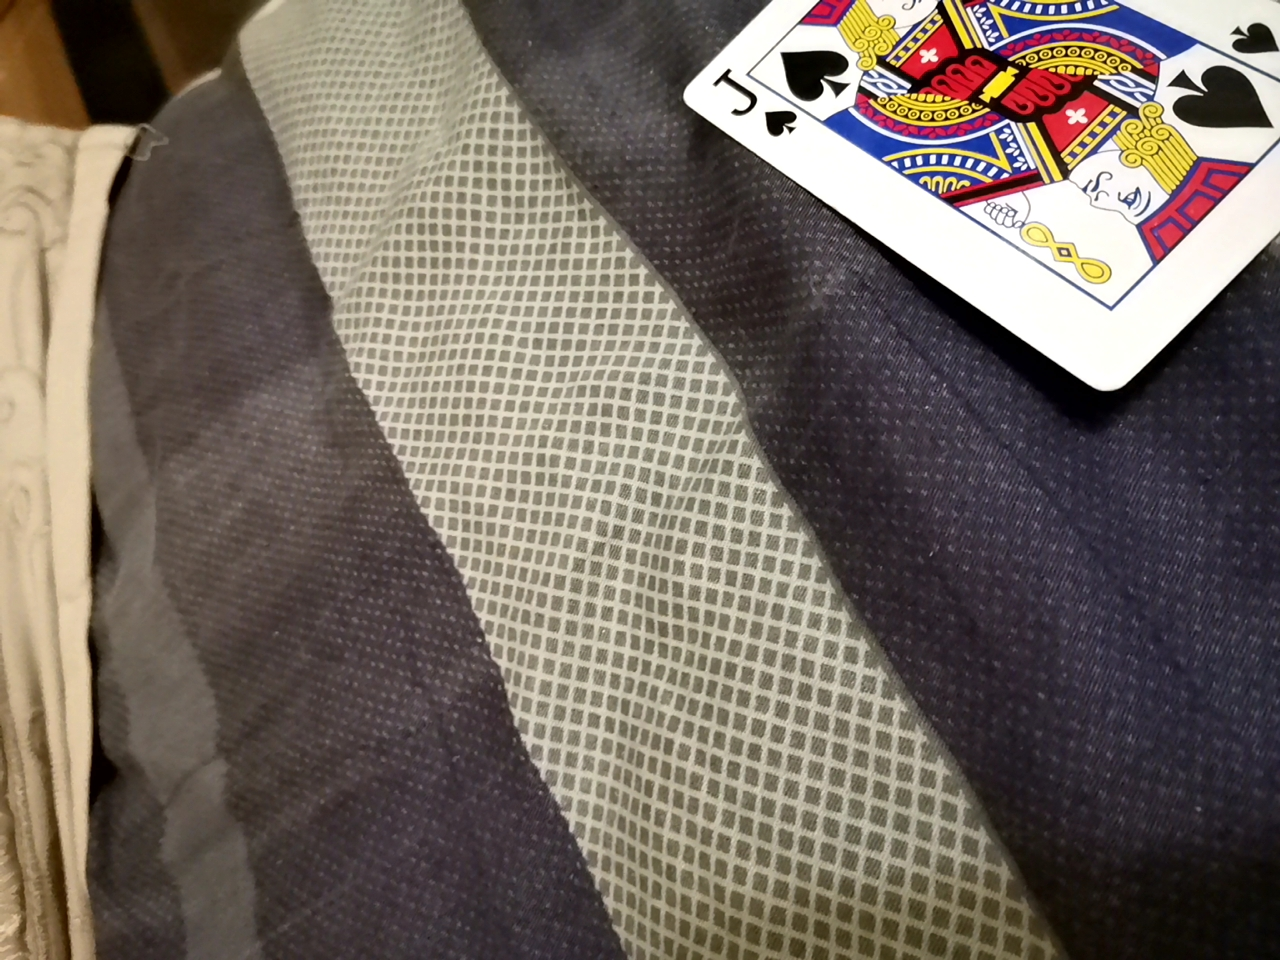ht j: (661, 0, 1278, 394)
